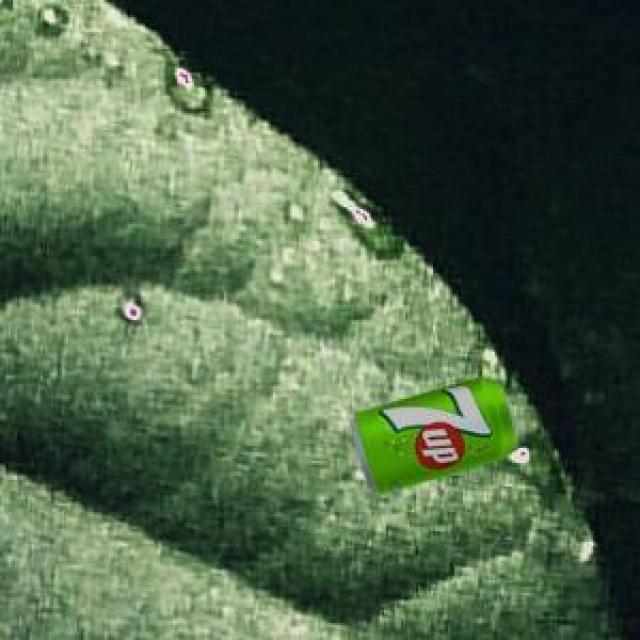Can: (349, 374, 515, 490)
